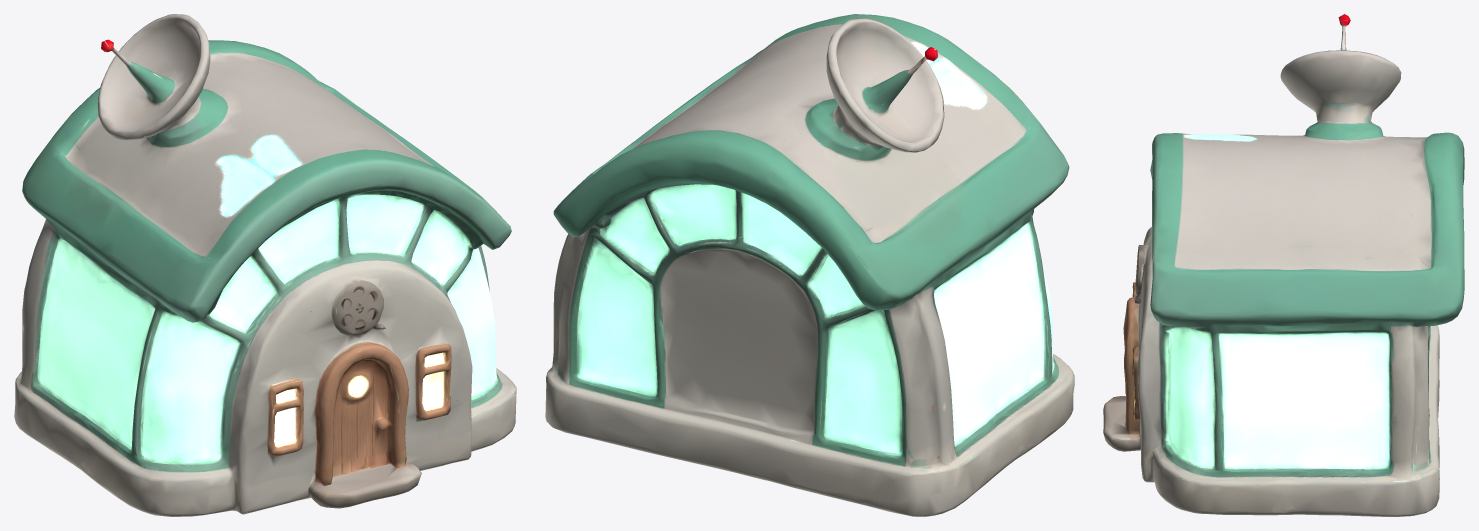
File: ai_studio_building.glb
3 views of the same model, side by side, from view 1: azimuth 30°, elevation 25°; view 2: azimuth 150°, elevation 25°; view 3: azimuth 270°, elevation 25° (orthographic). The views are drawn at different scales.
Parts seen in each view (by area): view 1: Mesh_0; view 2: Mesh_0; view 3: Mesh_0.
Part boxes in pixels (bbox=[...]): Mesh_0: bbox=[14, 14, 516, 516]; Mesh_0: bbox=[545, 14, 1074, 516]; Mesh_0: bbox=[1103, 14, 1464, 516].
Bounding box in the file's own units: 1.91 × 1.89 × 1.72.
Materials: 1 (1 with a texture image).
